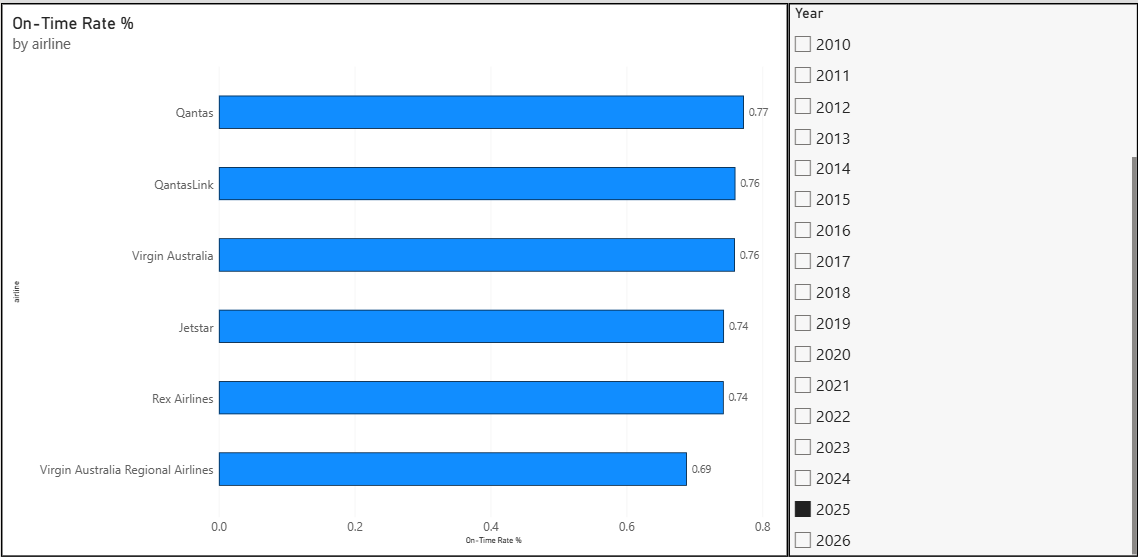

What the dashboard file says about the page in this screenshot:
{"tool":"powerbi","page":{"name":"Airline Reliability","canvas":[1920,1080],"ordinal":1},"visuals":[{"type":"clusteredBarChart","fields":{"Category":["flights_monthly.airline"],"Y":["flights_monthly.On-Time Rate %"]},"box":[0,0,1296,912],"z":0},{"type":"slicer","title":"Year","fields":{"Values":["flights_monthly.year"]},"box":[1296,0,576,912],"z":1}]}

Visuals, with their boxes on the page's 1920x1080 design canvas (x1, y1, x2, y2). These are canvas units, not pixel positions in the 1138x557 screenshot, which may show the page scaled, cropped or inside an application window:
clusteredBarChart - flights_monthly.airline x flights_monthly.On-Time Rate %: {"x1": 0, "y1": 0, "x2": 1296, "y2": 912}
"Year" slicer: {"x1": 1296, "y1": 0, "x2": 1872, "y2": 912}
